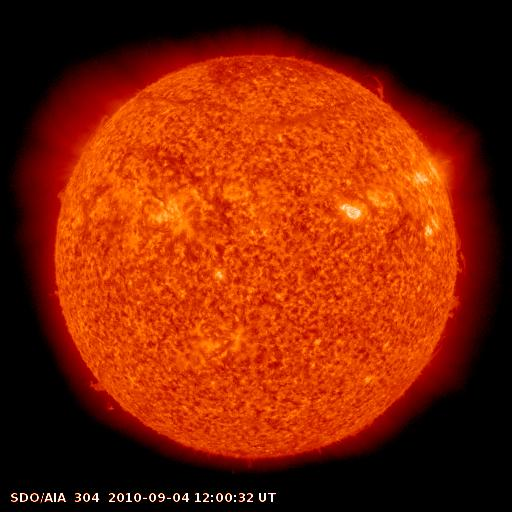prominence: (87, 367, 131, 421), (354, 62, 395, 104), (432, 287, 467, 326), (447, 232, 476, 279)
